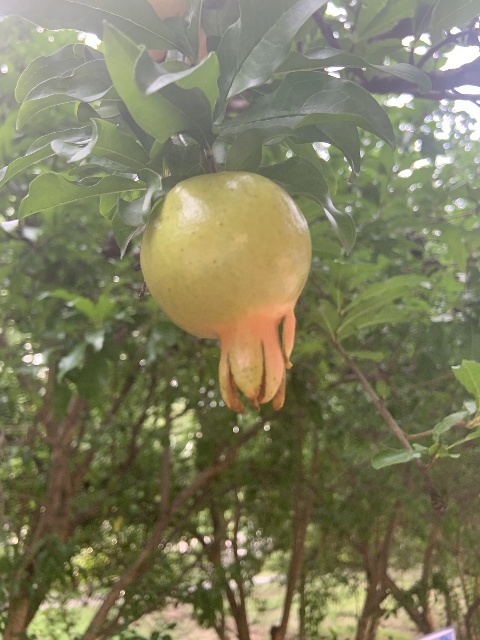mid-growth: (139, 171, 312, 413)
